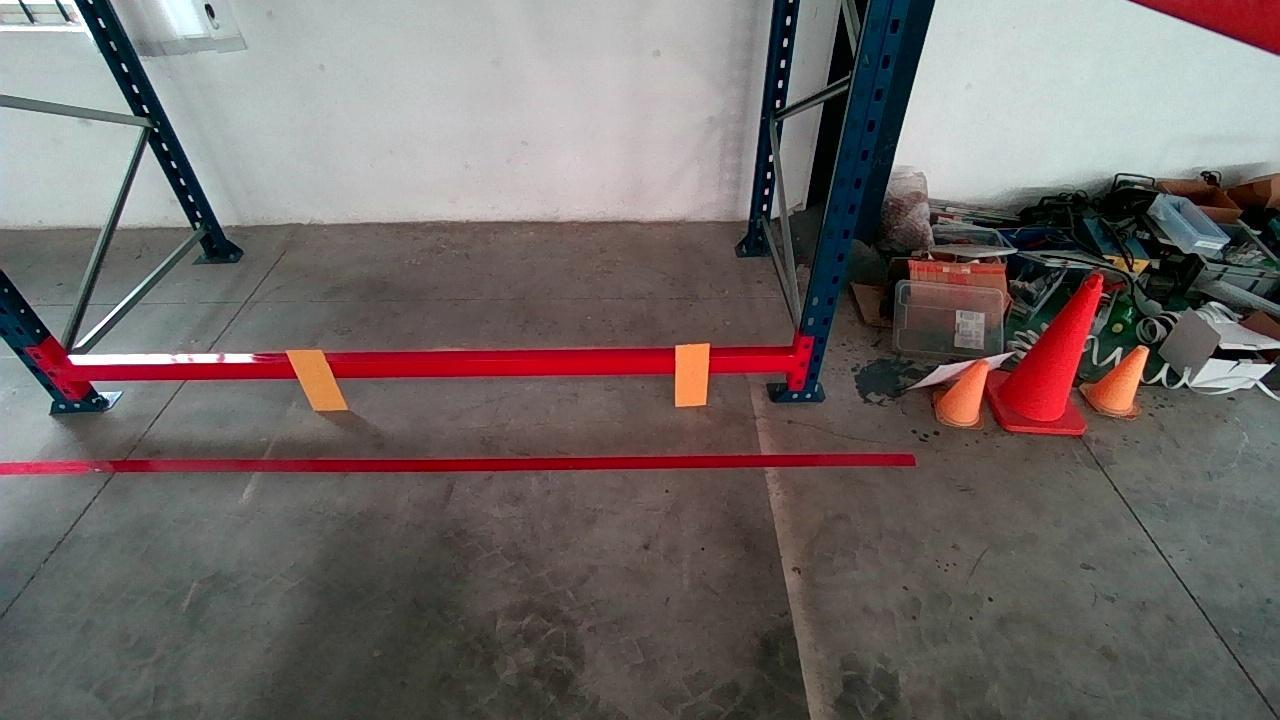h_rack: (56, 355, 790, 383)
orange_strip: (288, 348, 346, 409), (675, 342, 709, 405)
red_line: (0, 450, 917, 475)
